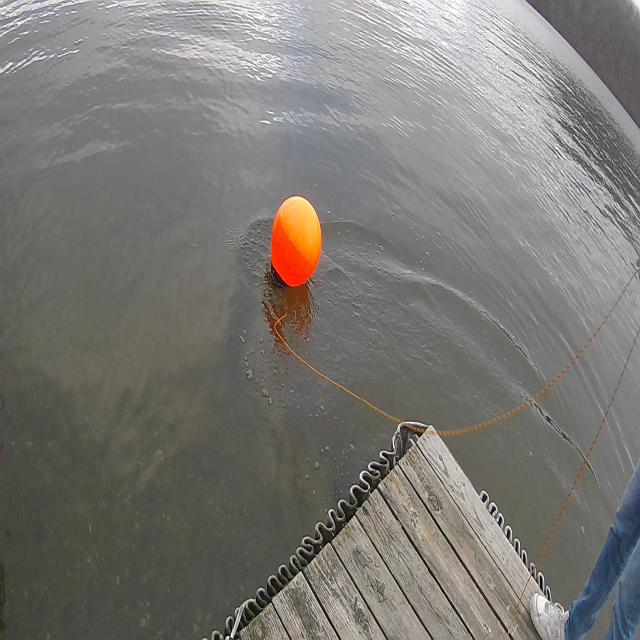Buoy: (258, 180, 332, 308)
